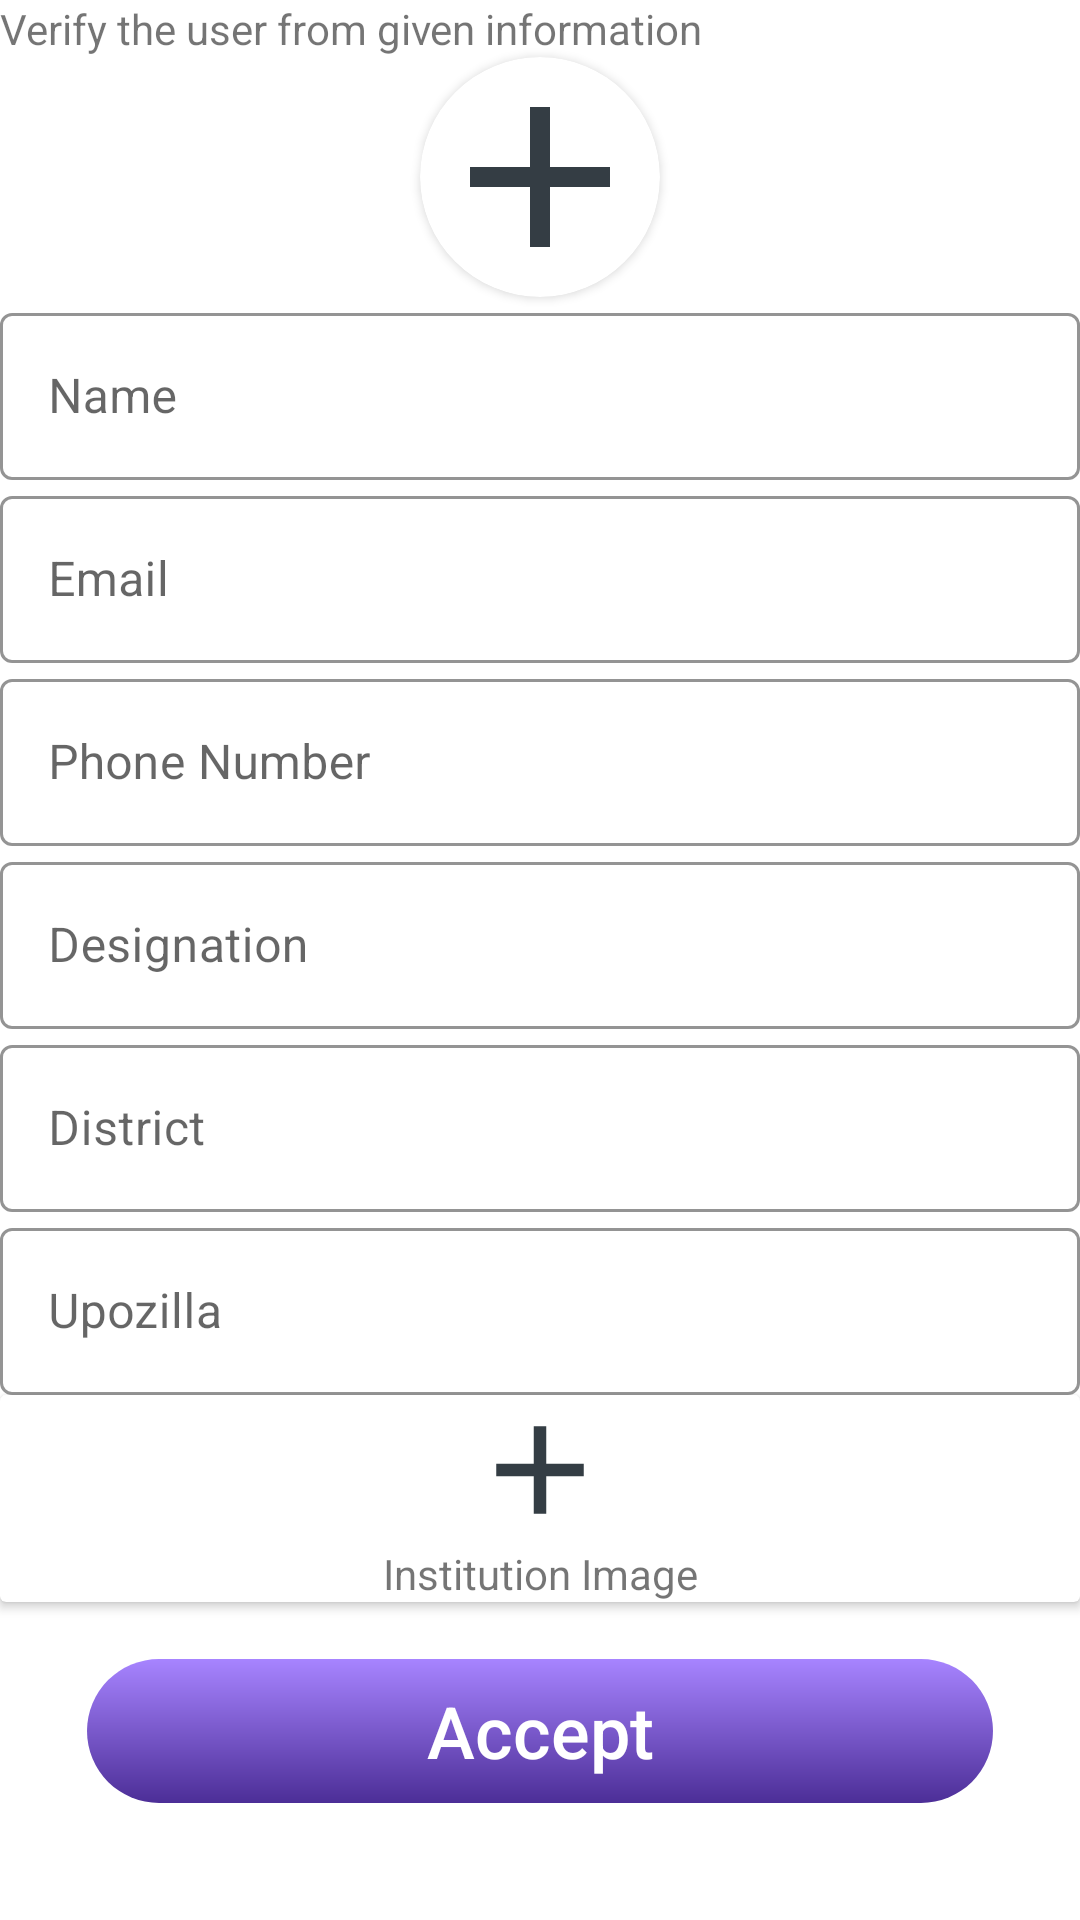

Named icons in this screenshot (1080w x 1920h) and their centers, (x,y):
add: (540,177), (540,1470)
